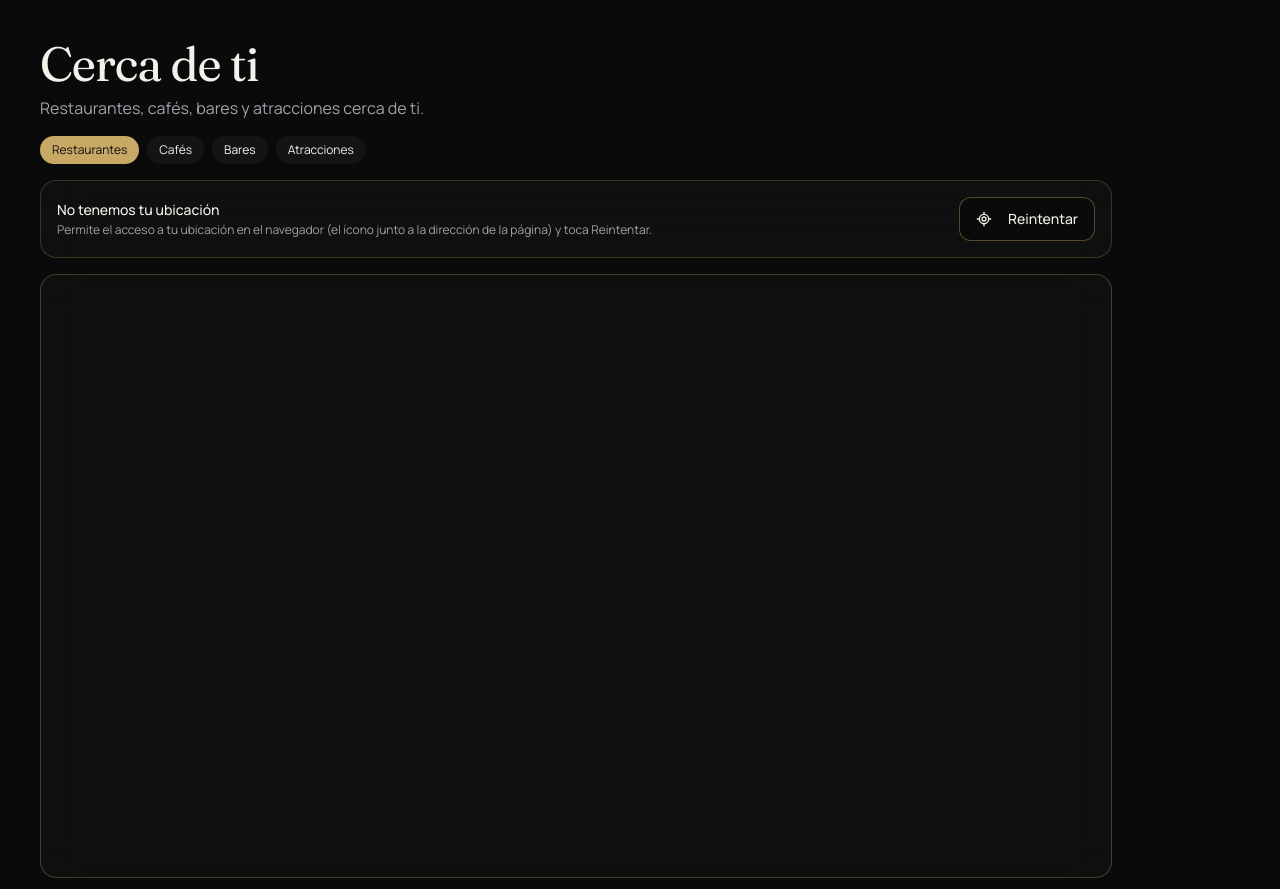
Scenario: Cerca de ti sin ubicación › explica qué hacer y «Reintentar» vuelve a pedir la ubicación
The image size is (1280, 889).
Check: the message with test id "cercanos-sin-ubicacion" shows "No tenemos tu ubicación", box [57,200,220,219]
What coordinates should you click on to do the following:
click the button "Reintentar"
I would click on:
 (1027, 219)
Its box is [959,197,1095,241].
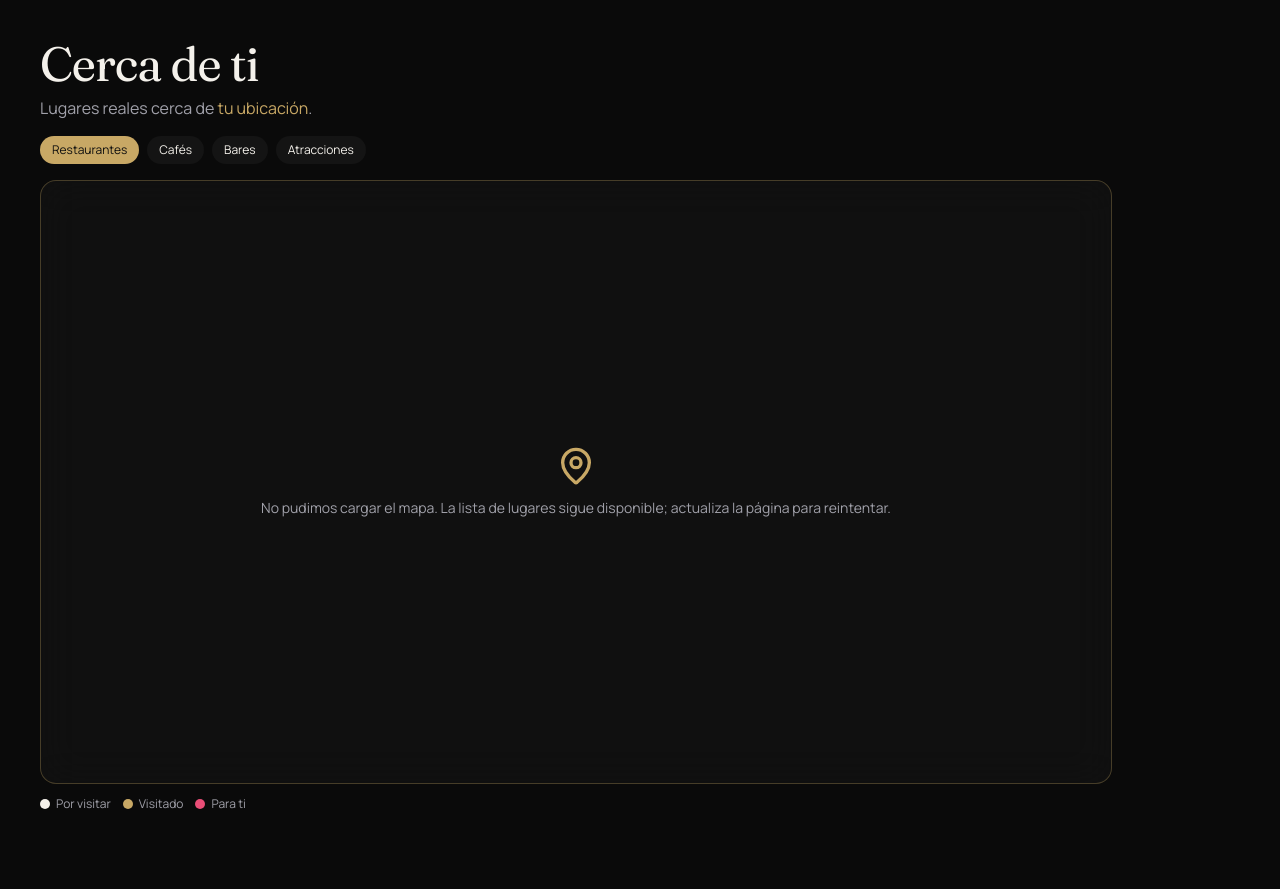
Check: the message with test id "cercanos-sin-ubicacion" is gone
